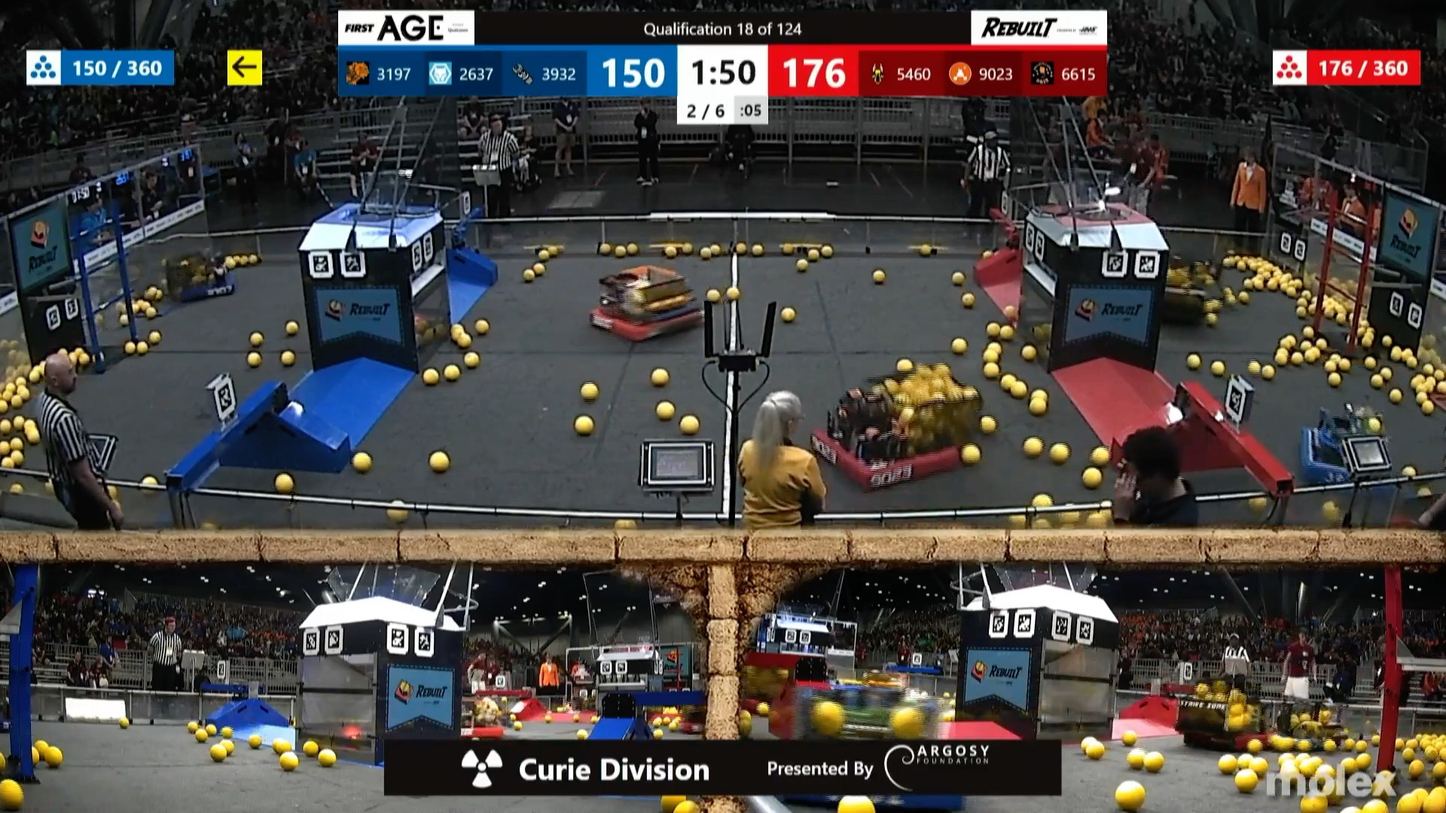bumpers: (801, 417, 974, 492), (581, 291, 713, 346), (1300, 423, 1392, 492), (171, 269, 252, 304)
